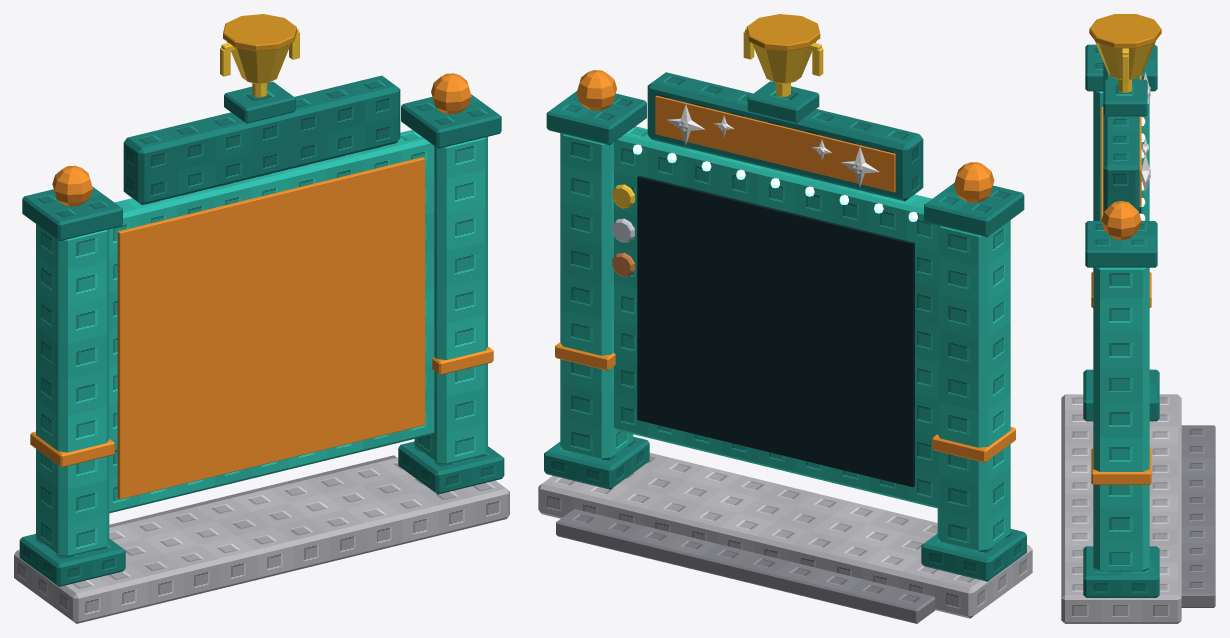
The model's file is LeaderboardTeal.glb.
3 renders of one model, left to right at view 1: azimuth 30°, elevation 25°; view 2: azimuth 150°, elevation 25°; view 3: azimuth 270°, elevation 25°, orthographic. The views are drawn at different scales.
Parts seen in each view (by area): view 1: LeaderboardTeal; view 2: LeaderboardTeal, LeaderboardTeal_Screen, LeaderboardTeal_Glow; view 3: LeaderboardTeal.
Part boxes in pixels (box(x1,y1,x2,y2)): LeaderboardTeal: box(14, 14, 509, 623); LeaderboardTeal: box(538, 14, 1032, 623); LeaderboardTeal_Screen: box(637, 175, 914, 487); LeaderboardTeal_Glow: box(633, 144, 917, 221); LeaderboardTeal: box(1061, 14, 1215, 623).
Bounding box in the file's own units: 12.3 × 13.62 × 3.85.
2 materials, 1 textured.
